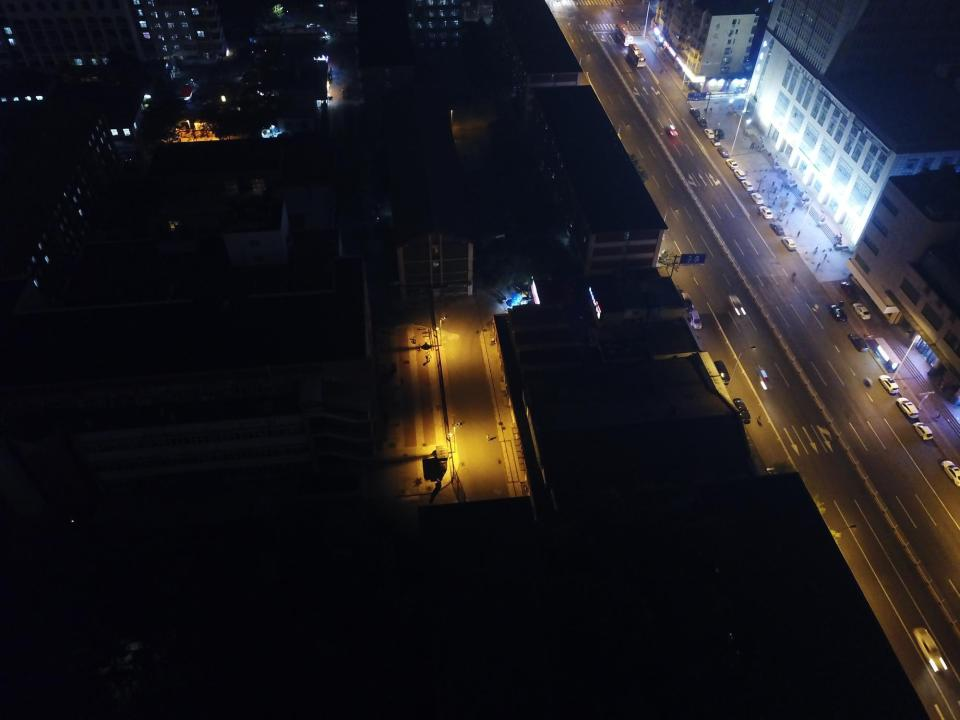bus: (627, 43, 646, 67), (615, 23, 633, 47)
car: (914, 627, 948, 673), (940, 460, 960, 487), (896, 397, 918, 419), (727, 292, 745, 318), (733, 398, 751, 422), (712, 360, 730, 384), (878, 374, 899, 393), (913, 422, 933, 440), (850, 334, 868, 352), (830, 304, 848, 322), (841, 281, 859, 299), (852, 304, 870, 320), (781, 237, 796, 250), (758, 206, 773, 219), (770, 222, 784, 235), (666, 125, 678, 137), (726, 158, 738, 170), (750, 193, 763, 204), (740, 180, 753, 191), (734, 169, 745, 180), (714, 128, 725, 139), (717, 147, 729, 157), (704, 128, 714, 138), (690, 108, 700, 118), (697, 118, 707, 127), (712, 138, 720, 146)
van: (689, 311, 702, 329), (681, 292, 694, 310)
